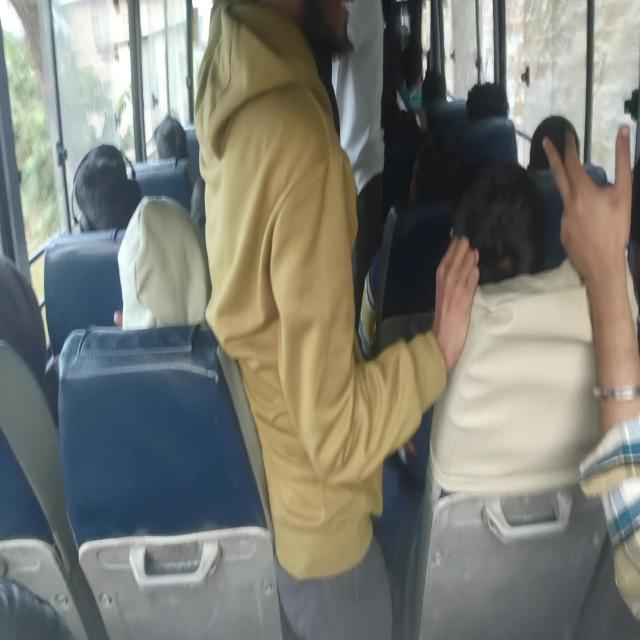person: (380, 154, 558, 445), (0, 261, 73, 640), (192, 3, 321, 170), (118, 196, 208, 328), (381, 200, 454, 332), (0, 252, 46, 384), (74, 143, 139, 232), (154, 111, 201, 231), (409, 129, 455, 205), (461, 117, 518, 172), (301, 1, 351, 63), (527, 115, 579, 169), (398, 38, 428, 130), (466, 81, 508, 120), (154, 114, 188, 162)
